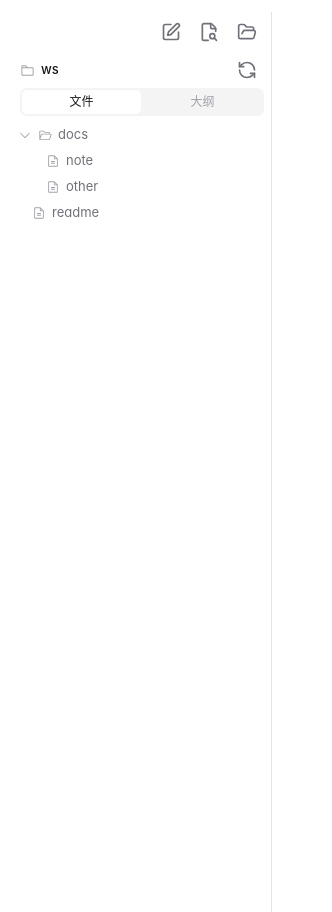
FileTree › keeps the collapsed state after the tree data is replaced
Click the button "docs". click: (73, 134)
box: [12,122,272,148]
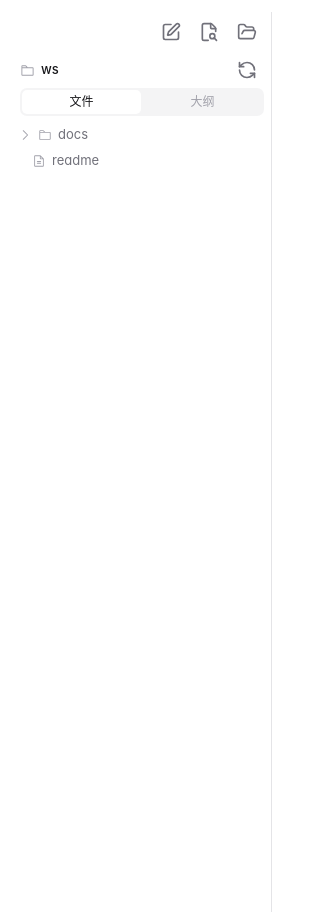
expect the button "note" is gone: met
